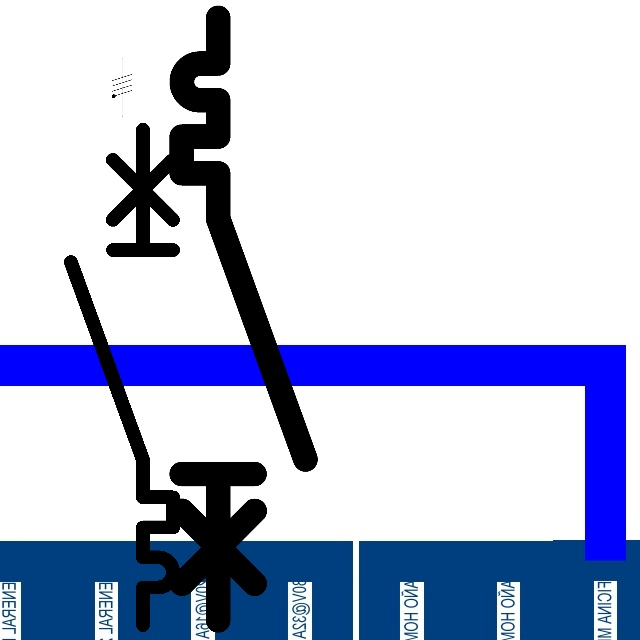interruptor_termomagnetico: (166, 2, 321, 636), (58, 116, 186, 637)
